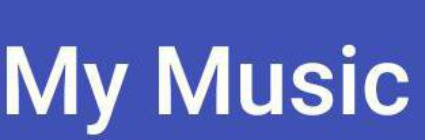TextView: (1, 1, 424, 139)
